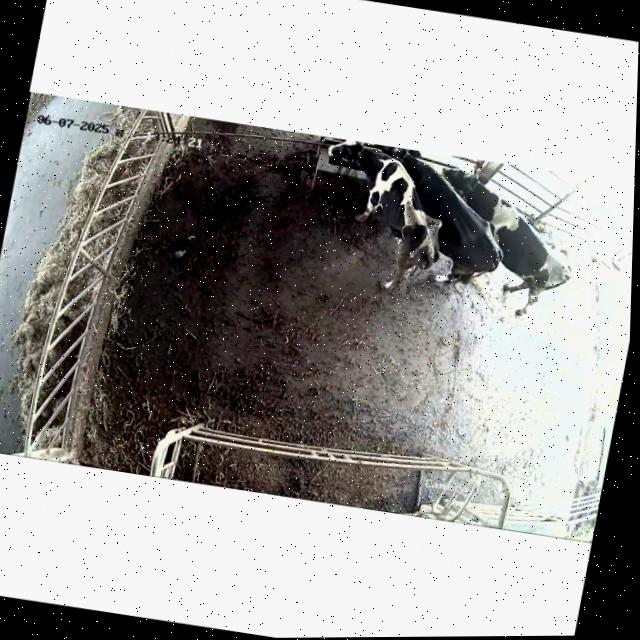drink: (378, 146, 433, 187)
stand: (419, 162, 590, 329), (302, 137, 458, 305)
